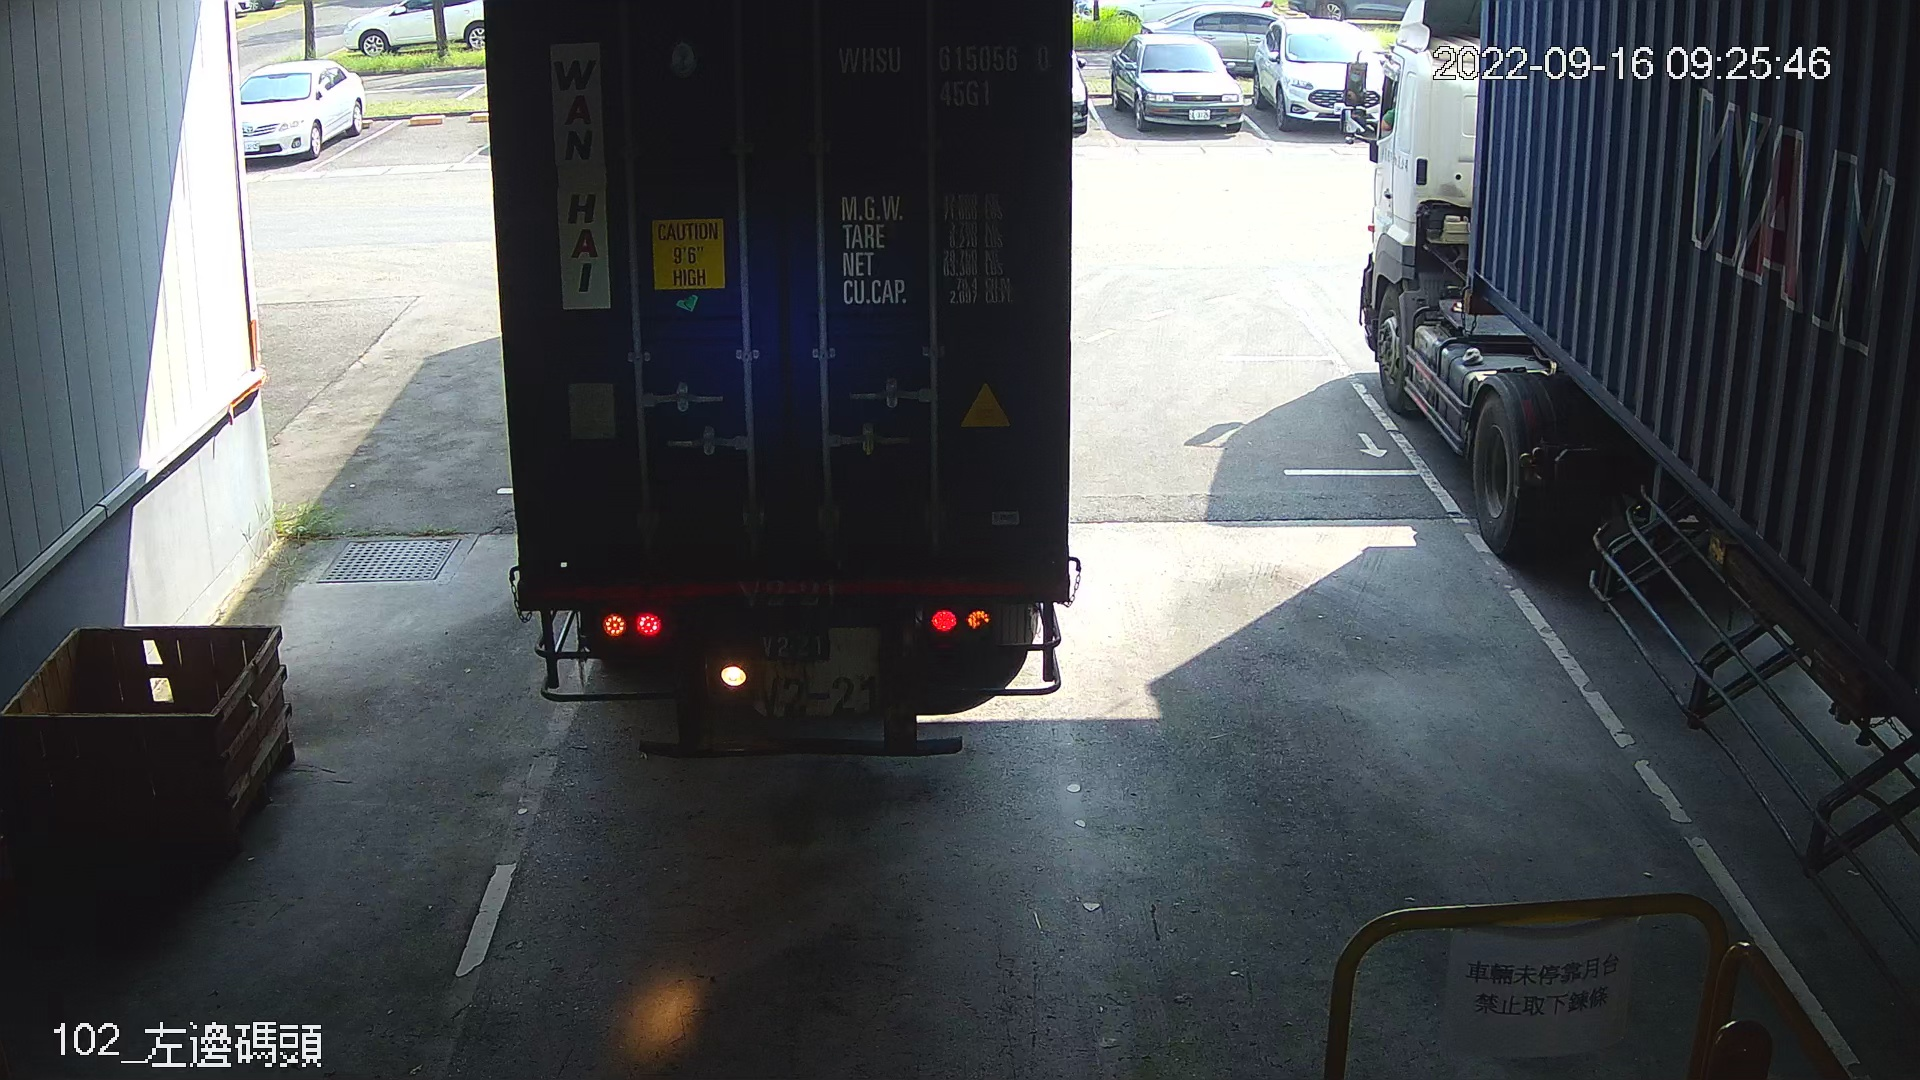container: (829, 33, 1062, 116)
